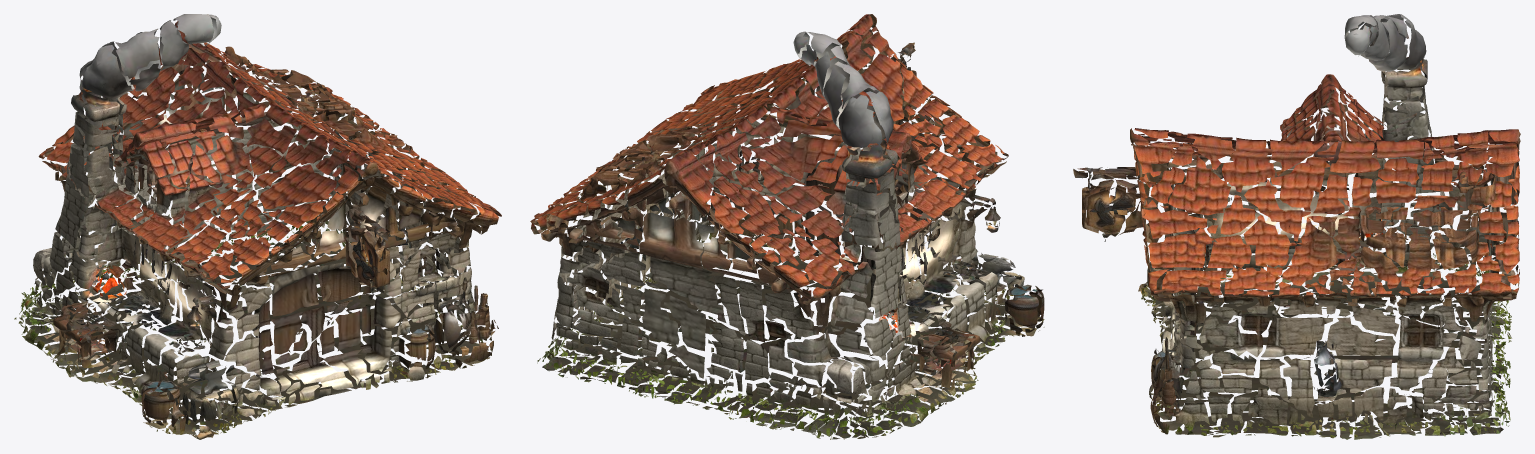
Rendered from maison.glb.
3 renders of one model, left to right at view 1: azimuth 30°, elevation 25°; view 2: azimuth 150°, elevation 25°; view 3: azimuth 270°, elevation 25°, orthographic. The views are drawn at different scales.
Visible parts, largest first — view 1: mesh; view 2: mesh; view 3: mesh.
Boxes of the visible parts, <box> form: mesh: <box>14,14,501,439</box>; mesh: <box>530,14,1044,439</box>; mesh: <box>1073,14,1520,439</box>.
Bounding box in the file's own units: 1.71 × 1.49 × 1.89.
1 material, 1 textured.
